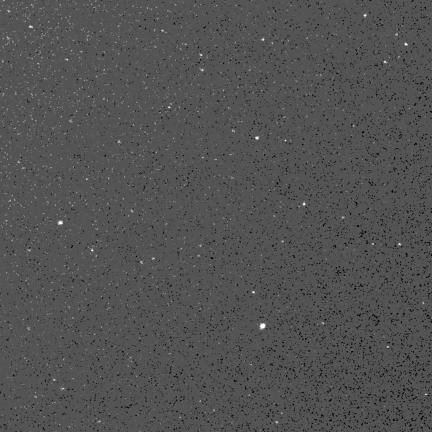blob: (260, 323, 265, 329), (58, 221, 63, 225), (255, 136, 259, 140), (303, 202, 306, 207)
